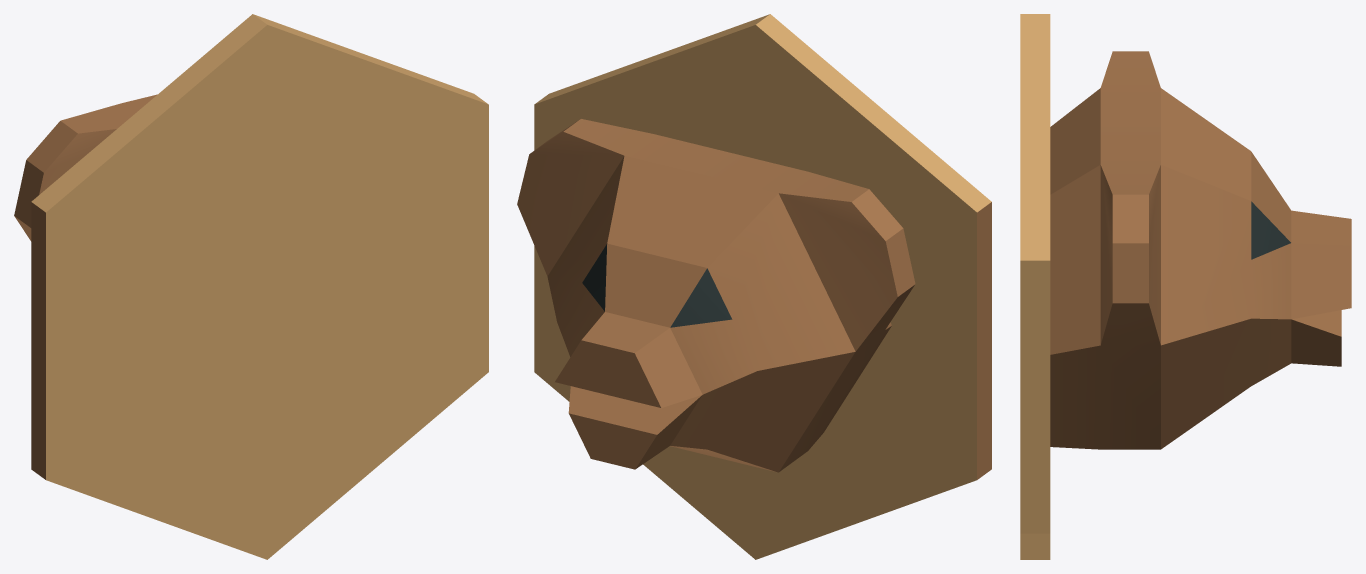
Rendered from bear.glb.
The picture shows the model from 3 angles, left to right: view 1: azimuth 30°, elevation 25°; view 2: azimuth 150°, elevation 25°; view 3: azimuth 270°, elevation 25°; orthographic projection. The views are drawn at different scales.
Bounding box in the file's own units: 3.9 × 4.5 × 2.47.
